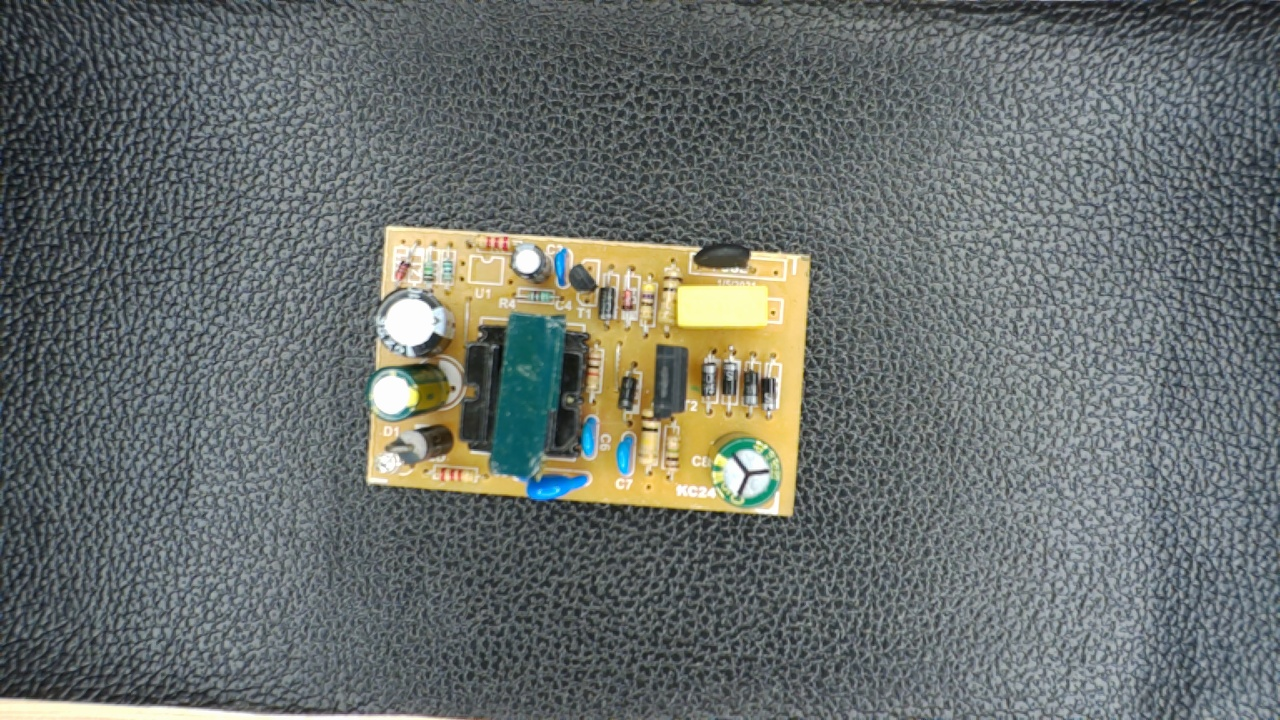fuse: (683, 239, 771, 279)
hv_capacitor: (701, 428, 788, 513)
mov: (506, 464, 594, 500)
